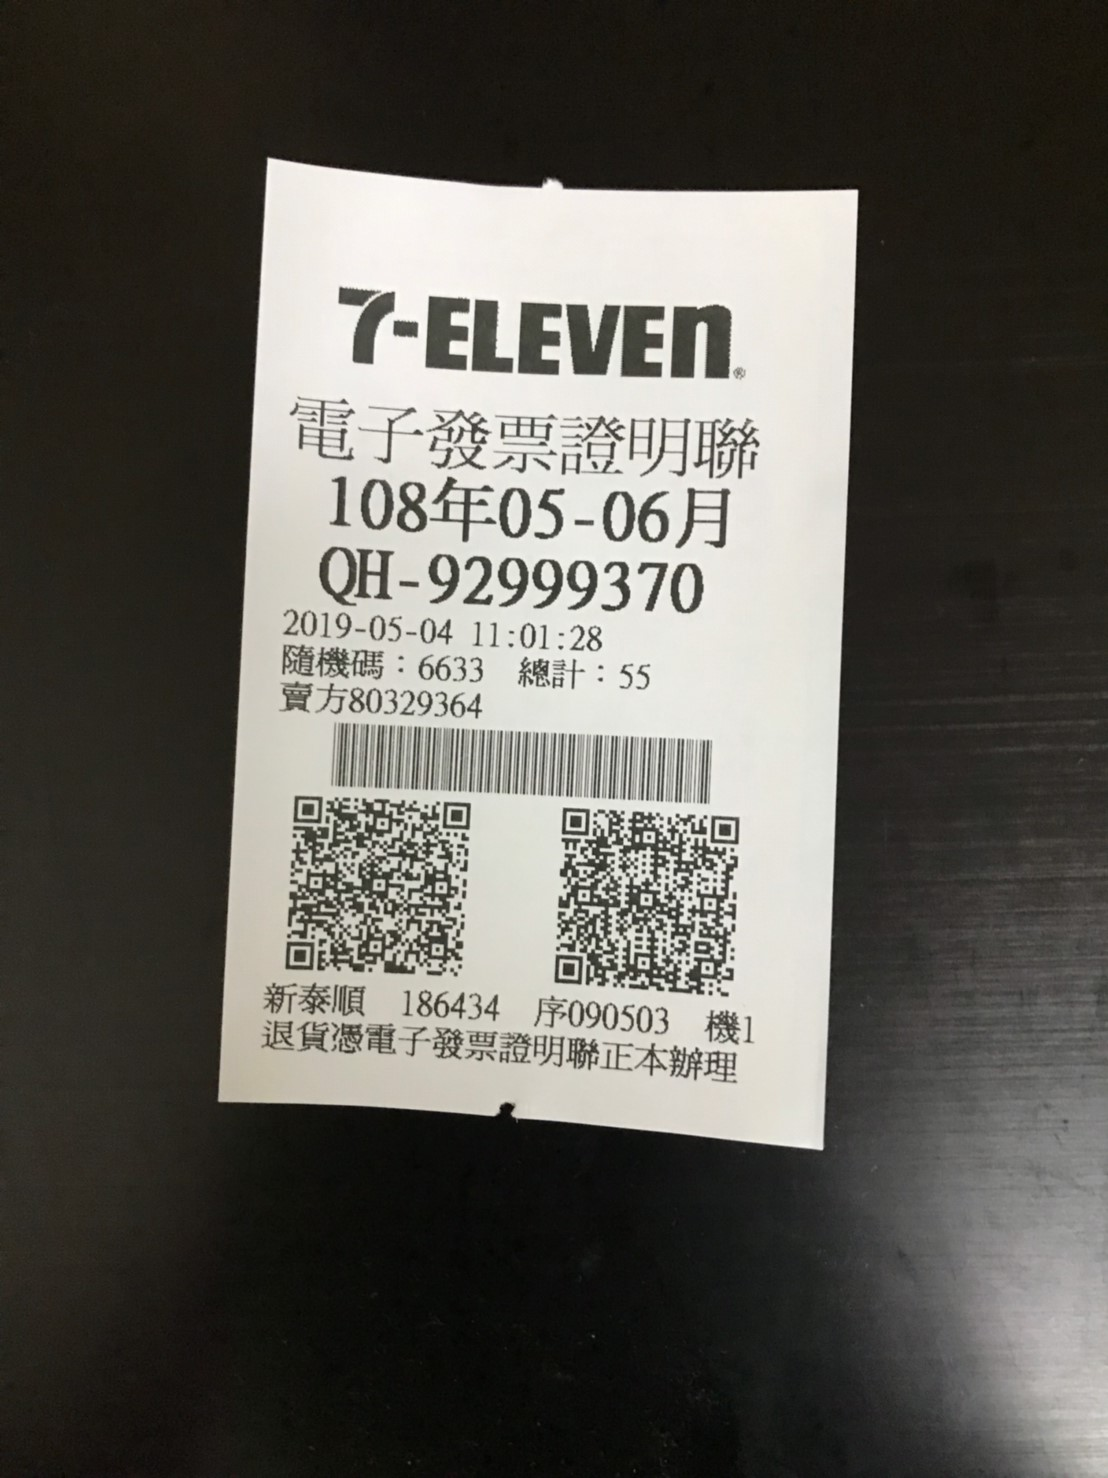Date_New: (324, 469, 731, 550)
Number_New: (422, 550, 706, 620)
